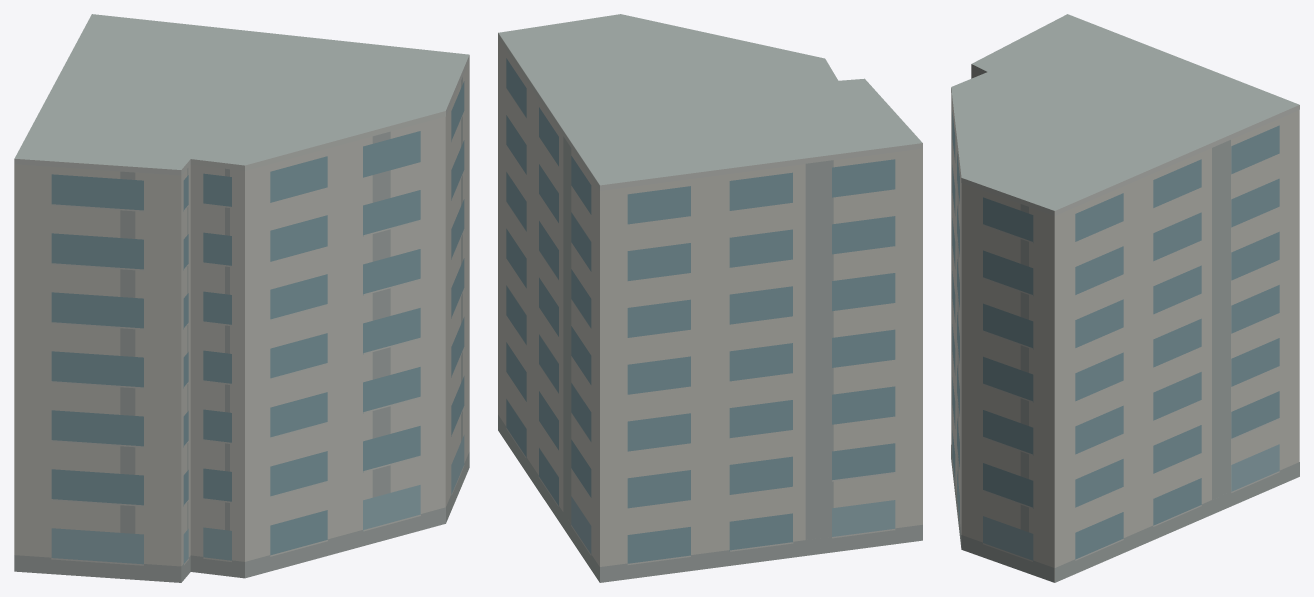
File: survey-upis-33000670.glb
The picture shows the model from 3 angles, left to right: view 1: azimuth 30°, elevation 25°; view 2: azimuth 150°, elevation 25°; view 3: azimuth 270°, elevation 25°; orthographic projection. The views are drawn at different scales.
Visible parts, largest first — view 1: survey-upis-33000670.tmp; view 2: survey-upis-33000670.tmp; view 3: survey-upis-33000670.tmp.
Boxes of the visible parts, x1,y1,x2,y2 form: survey-upis-33000670.tmp: [14, 14, 469, 582]; survey-upis-33000670.tmp: [498, 14, 922, 582]; survey-upis-33000670.tmp: [951, 14, 1299, 582].
Size of the model in its own units: 20.46 by 18 by 15.3.
